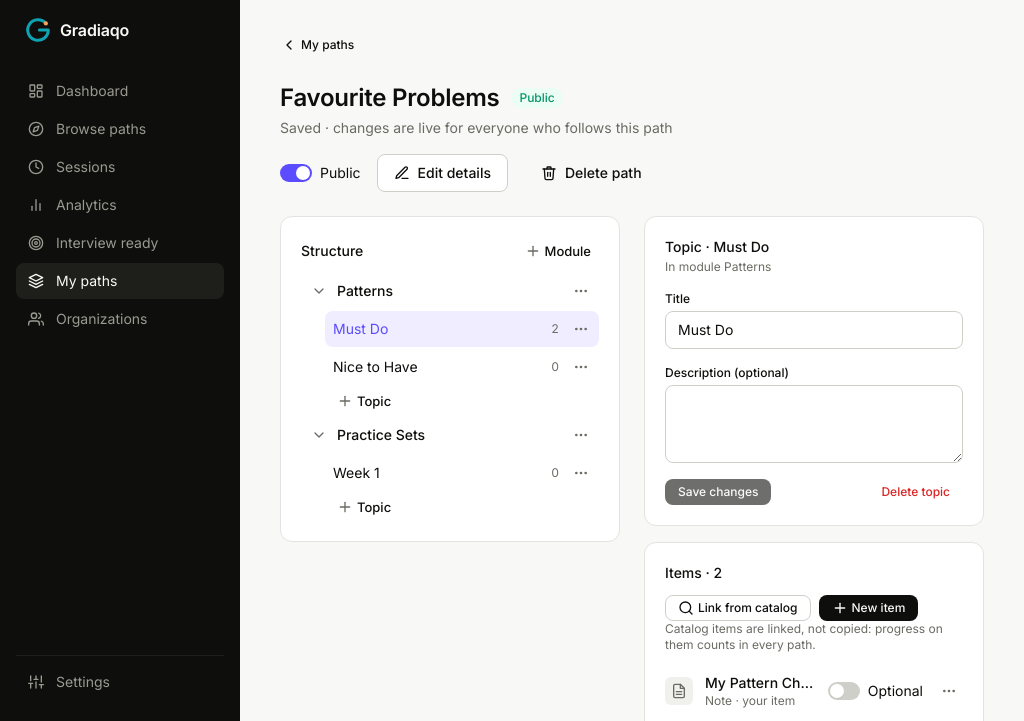
PathBuilderPage › opens a module, the path itself, or another topic, and folds modules away
Expected: the heading "Favourite Problems" is shown, left=280, top=82, right=500, bottom=114
Click the button "Patterns".
click(448, 291)  # box left=333, top=273, right=563, bottom=309
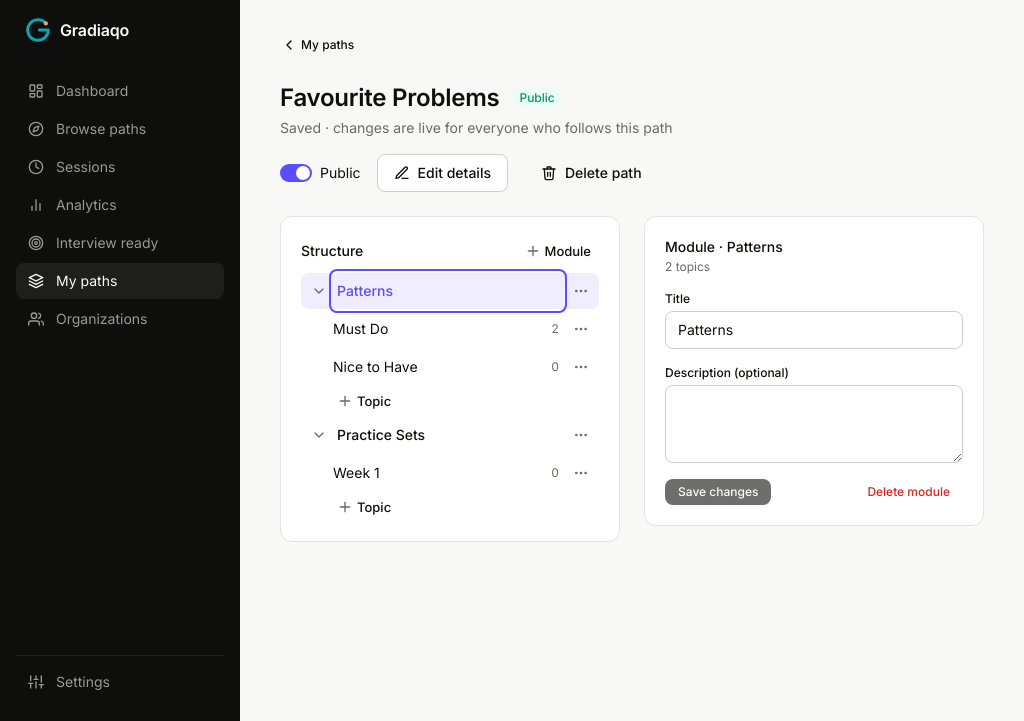
Now the heading "Module · Patterns" is shown, box left=665, top=238, right=783, bottom=255
Now the text "2 topics" is shown, box left=665, top=259, right=710, bottom=274
Now the heading "Items" is gone
Click the button "Practice Sets".
click(448, 435)  # box left=333, top=417, right=563, bottom=453
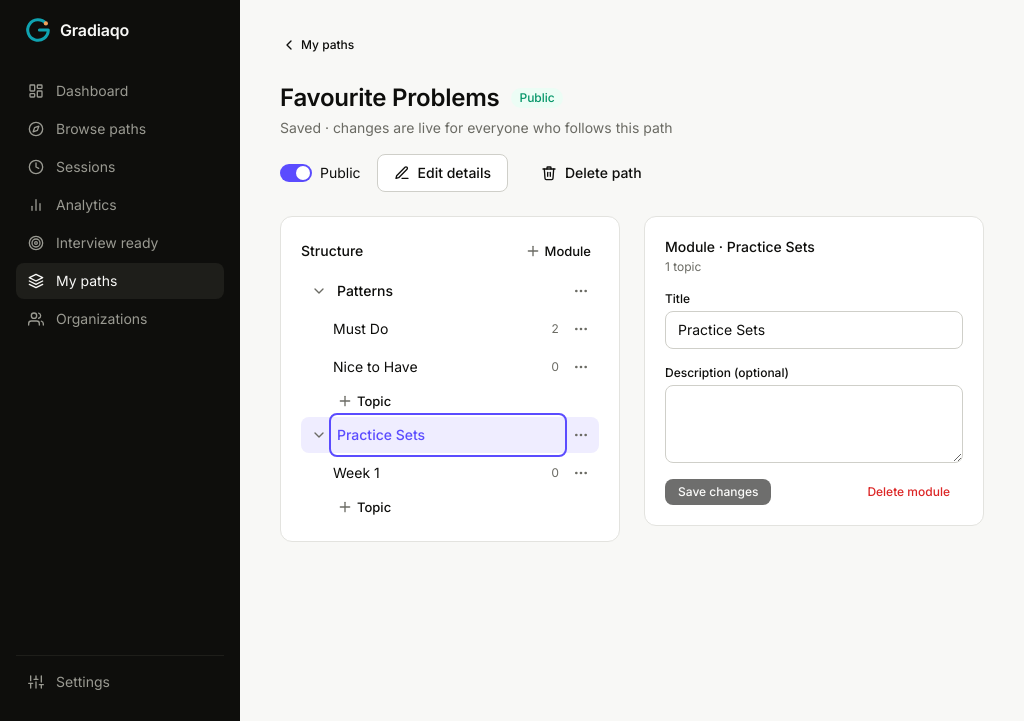
Now the text "1 topic" is shown, box left=665, top=259, right=701, bottom=274
Click the button "Edit details".
click(442, 173)  # box left=377, top=154, right=508, bottom=192
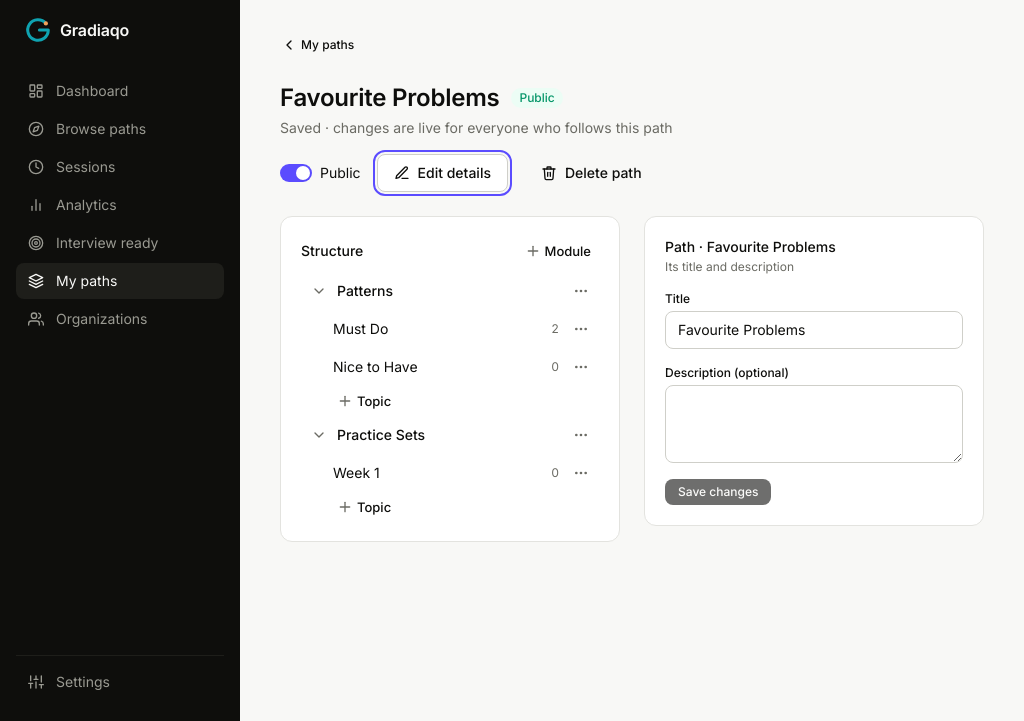
Now the heading "Path · Favourite Problems" is shown, box left=665, top=238, right=836, bottom=255
Click the button with aria-label "Week 1 (0 items)".
click(446, 473)  # box left=329, top=455, right=563, bottom=491
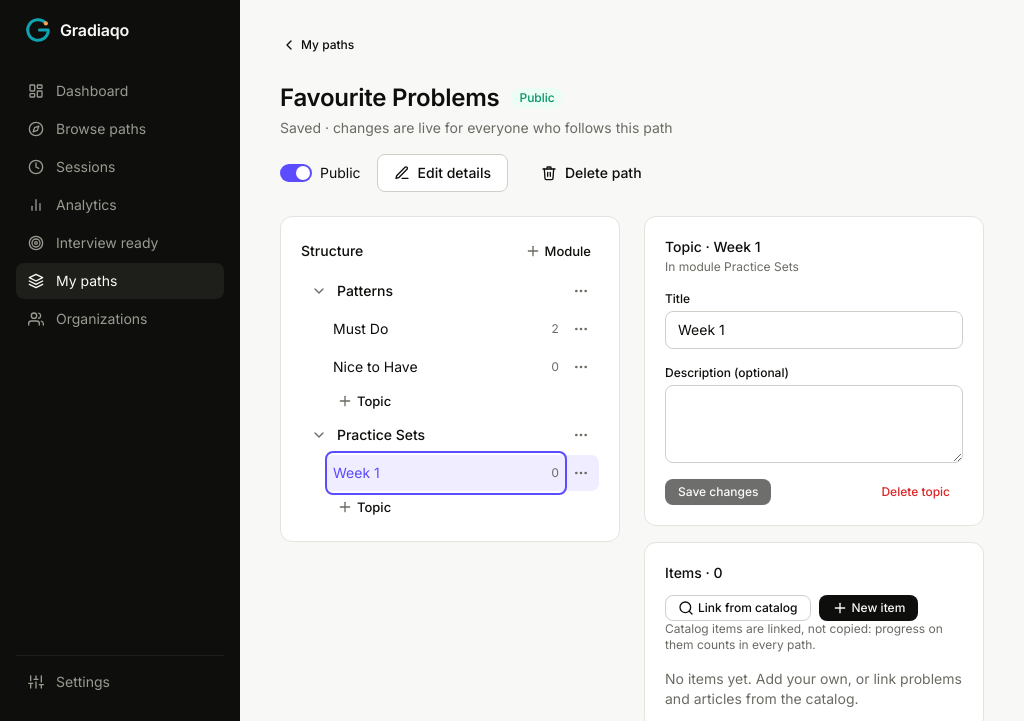
Now the heading "Topic · Week 1" is shown, box left=665, top=238, right=761, bottom=255
Now the text "No items yet" is shown, box left=665, top=670, right=962, bottom=707
Click the button named "Collapse Patterns".
click(317, 291)  # box left=305, top=279, right=329, bottom=303
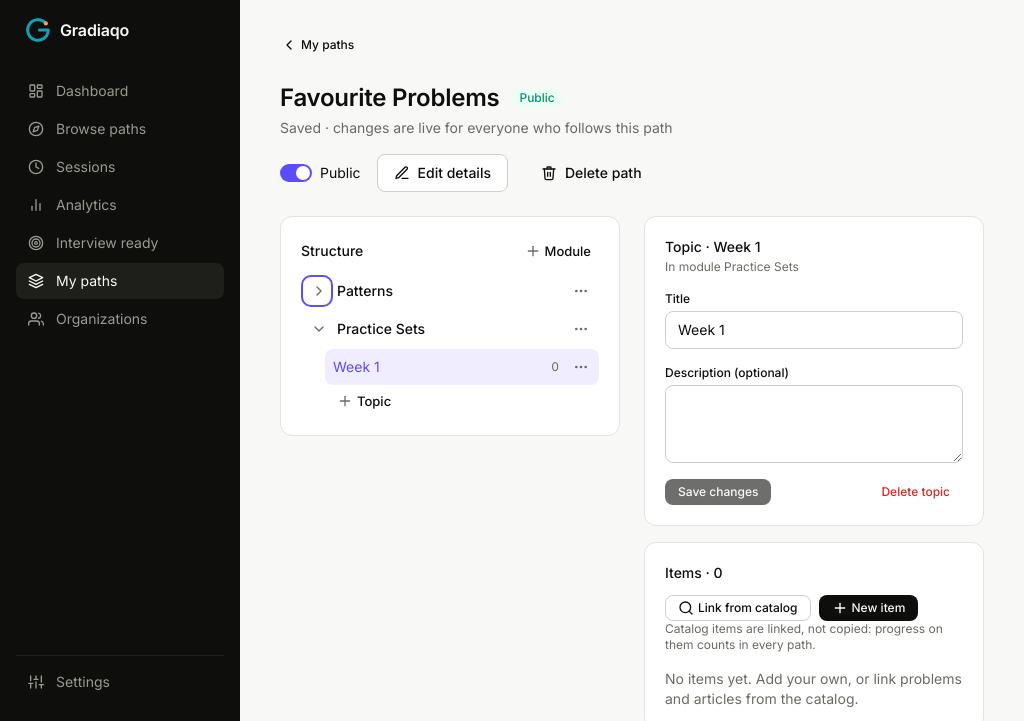
Now the button "Must Do" is gone
Click the button named "Expand Patterns".
click(317, 291)  # box left=305, top=279, right=329, bottom=303
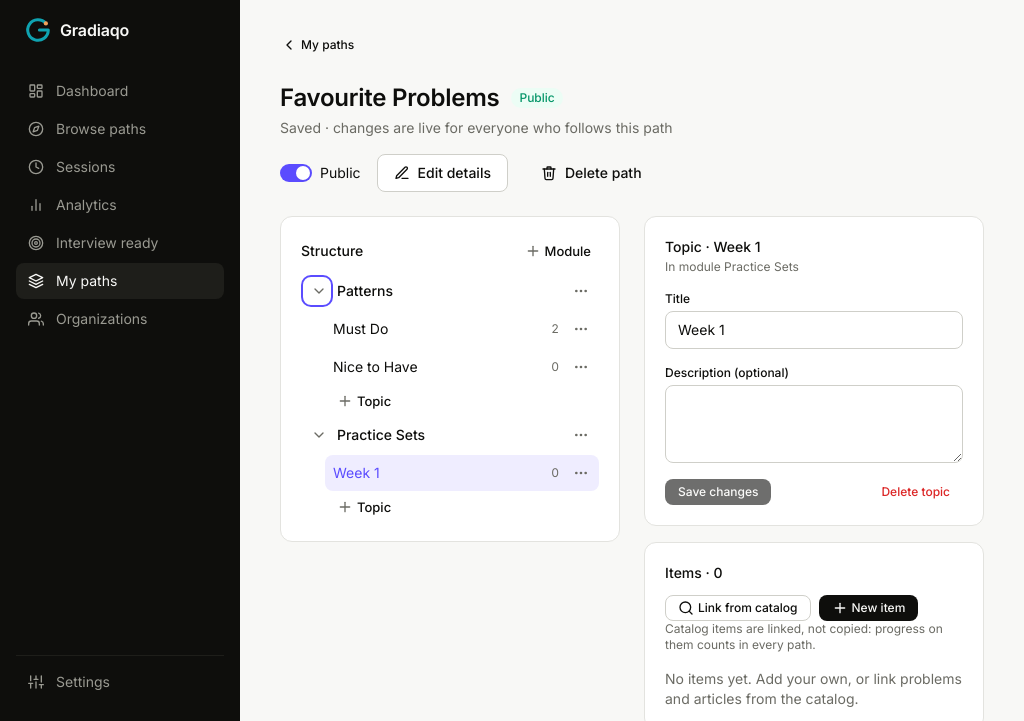
Now the button "Must Do 2" is shown, box left=329, top=311, right=563, bottom=347
